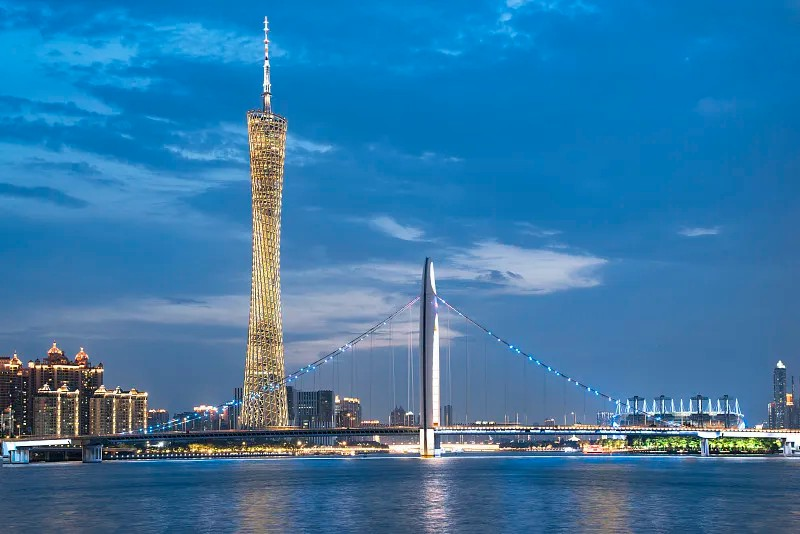Canton: (238, 14, 293, 427)
